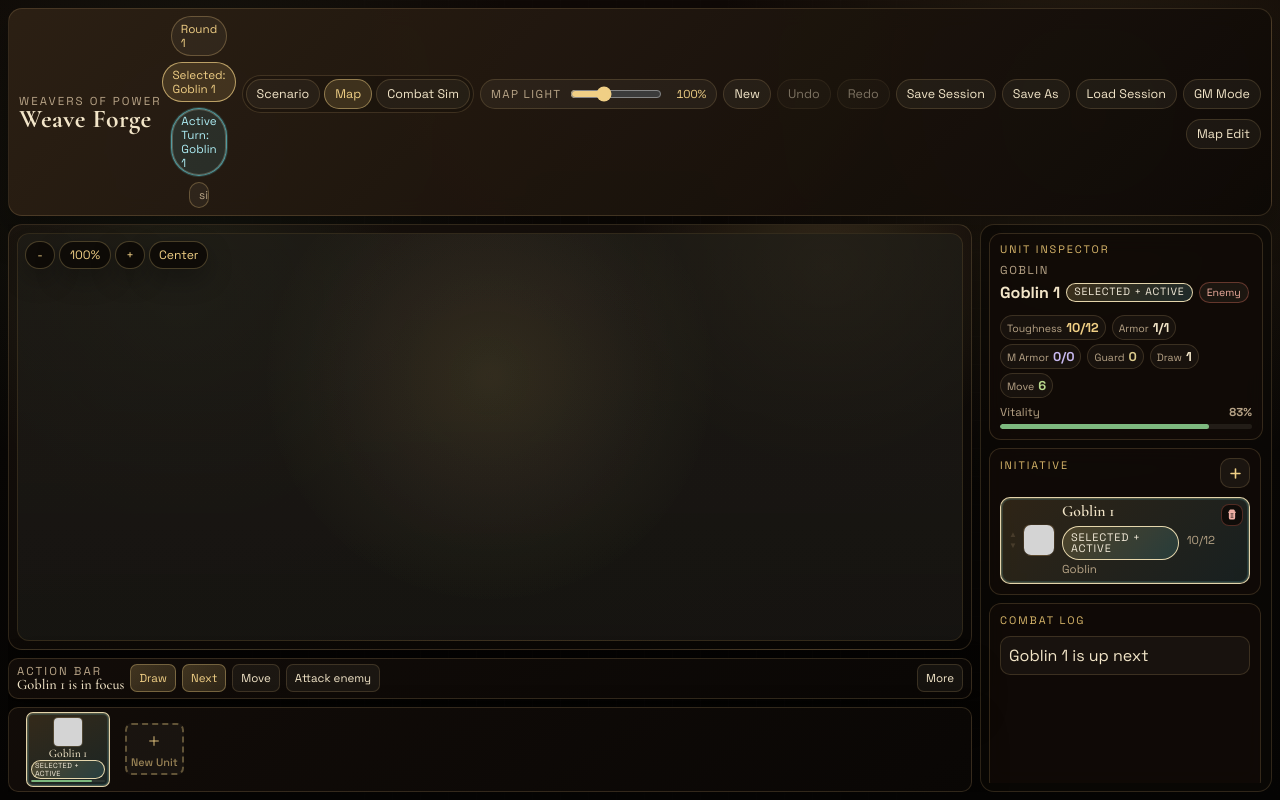
App › allows the active NPC to disengage from the More menu
Click the button "More": (940,678) [917,664,963,692]
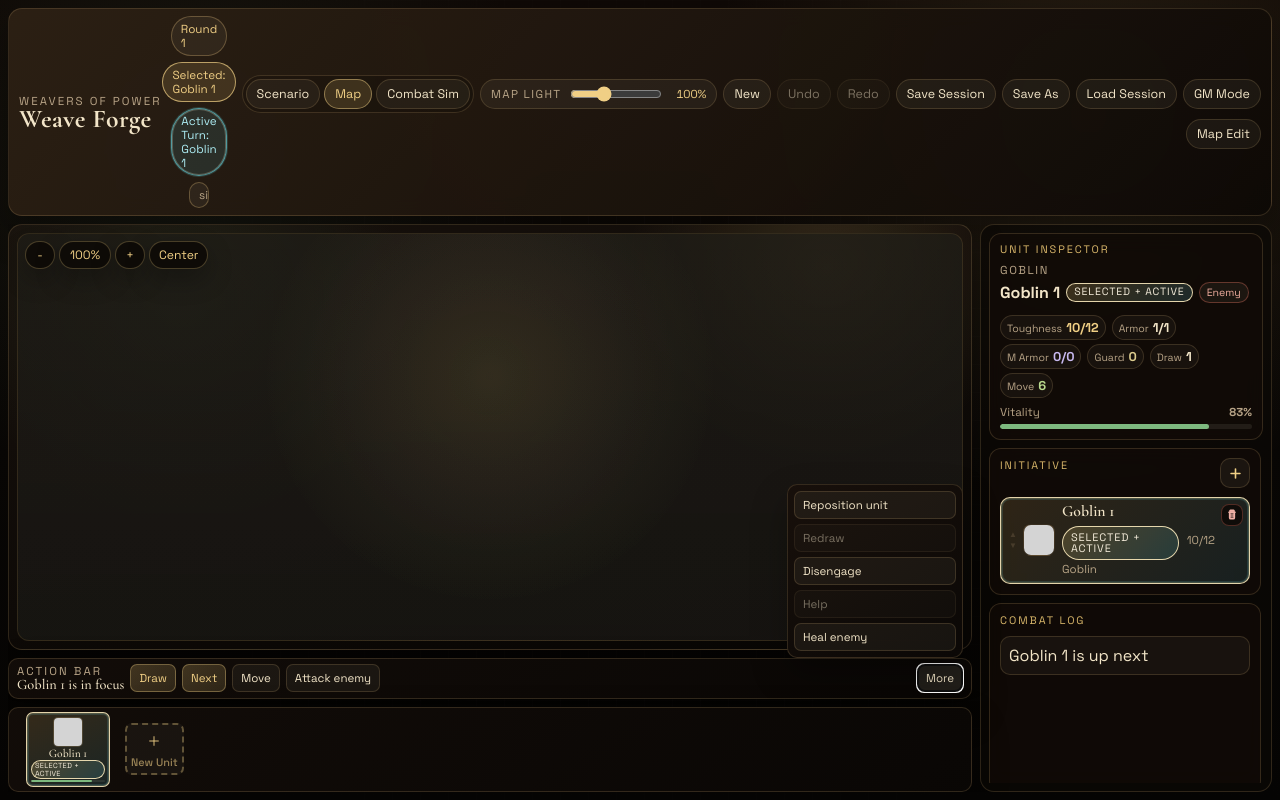
Check: the menu item "Disengage" is enabled
Click the menu item "Disengage": (875,571) [794,557,956,585]
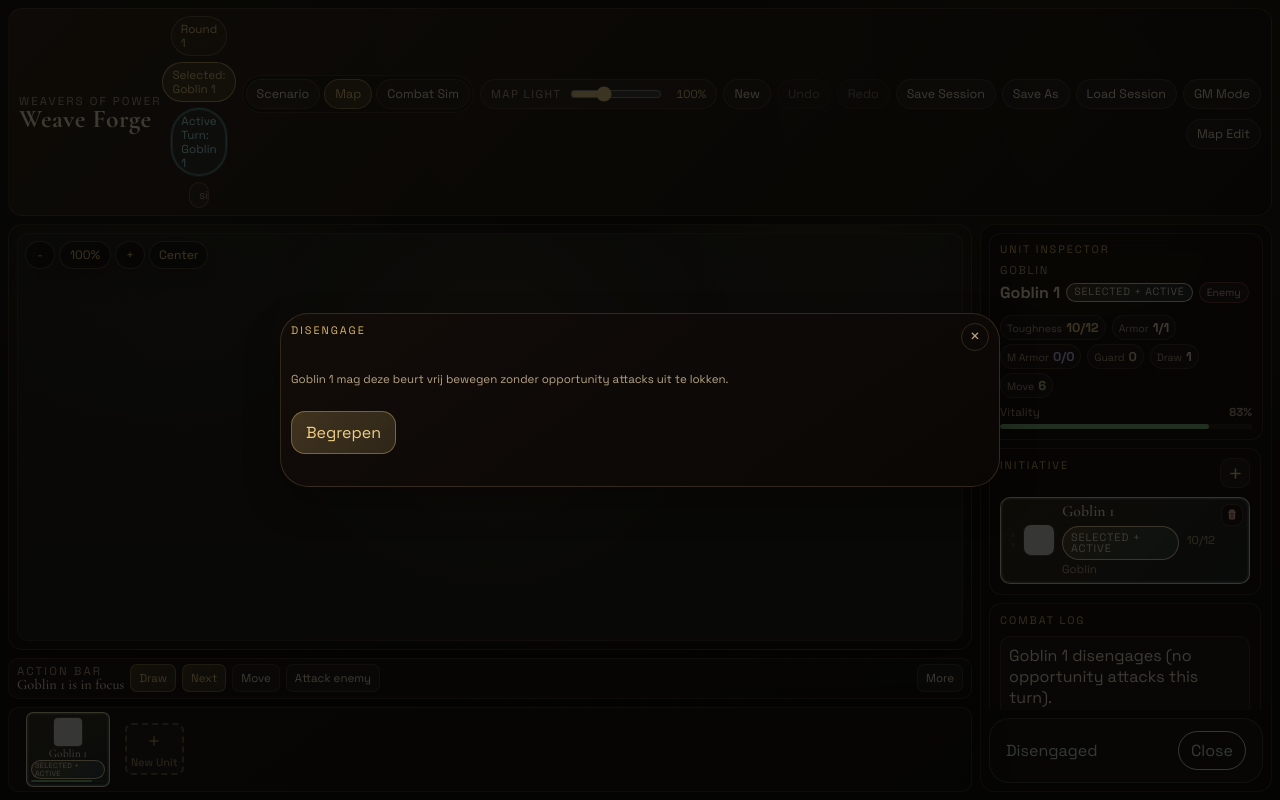
Check: the text "Goblin 1 disengages (no opportunity attacks this turn)." is shown, box [1000,636,1250,710]
